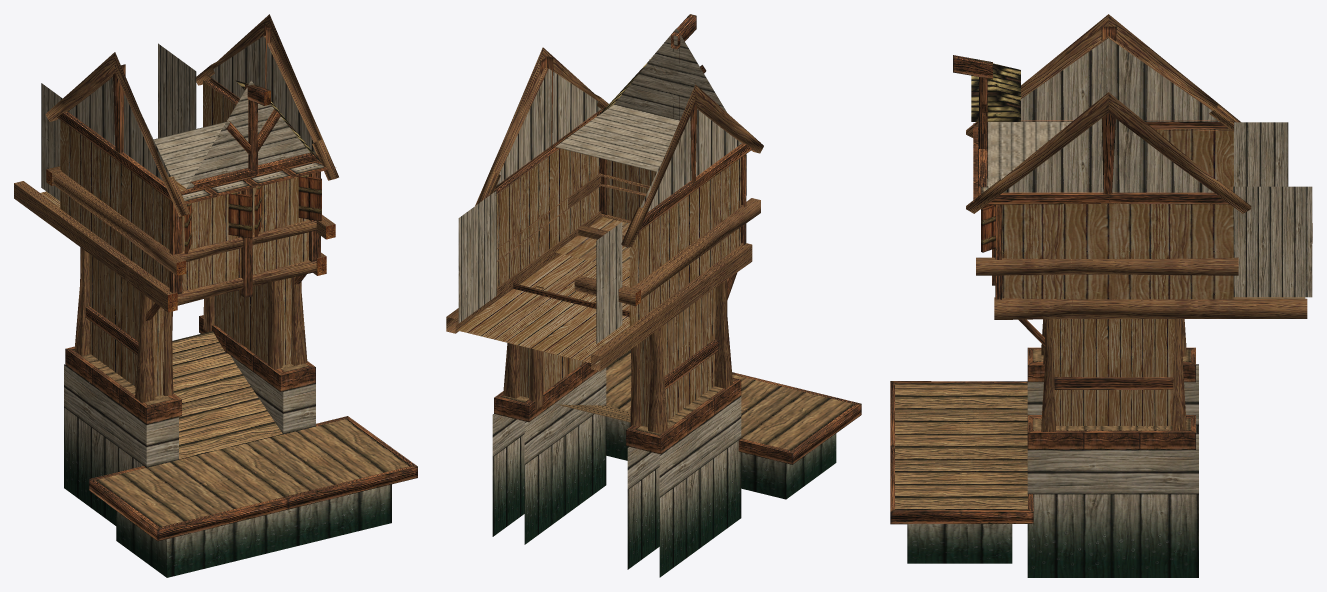
Rendered from LAKETOWN_EXTERIOR_PS_LT_PIER_HOUSE77__GX.fbx.
3 renders of one model, left to right at view 1: azimuth 30°, elevation 25°; view 2: azimuth 150°, elevation 25°; view 3: azimuth 270°, elevation 25°, orthographic. The views are drawn at different scales.
Visible parts, largest first — view 1: LAKETOWN_EXTERIOR_PS_LT_PIER_HOUSE77__GX; view 2: LAKETOWN_EXTERIOR_PS_LT_PIER_HOUSE77__GX; view 3: LAKETOWN_EXTERIOR_PS_LT_PIER_HOUSE77__GX.
Boxes of the visible parts, left/top/right/bottom form: LAKETOWN_EXTERIOR_PS_LT_PIER_HOUSE77__GX: left=14, top=14, right=417, bottom=577; LAKETOWN_EXTERIOR_PS_LT_PIER_HOUSE77__GX: left=446, top=14, right=861, bottom=577; LAKETOWN_EXTERIOR_PS_LT_PIER_HOUSE77__GX: left=890, top=14, right=1312, bottom=577.
Size of the model in its own units: 81723 by 139959 by 111074.
Materials: 12 (12 with a texture image).
